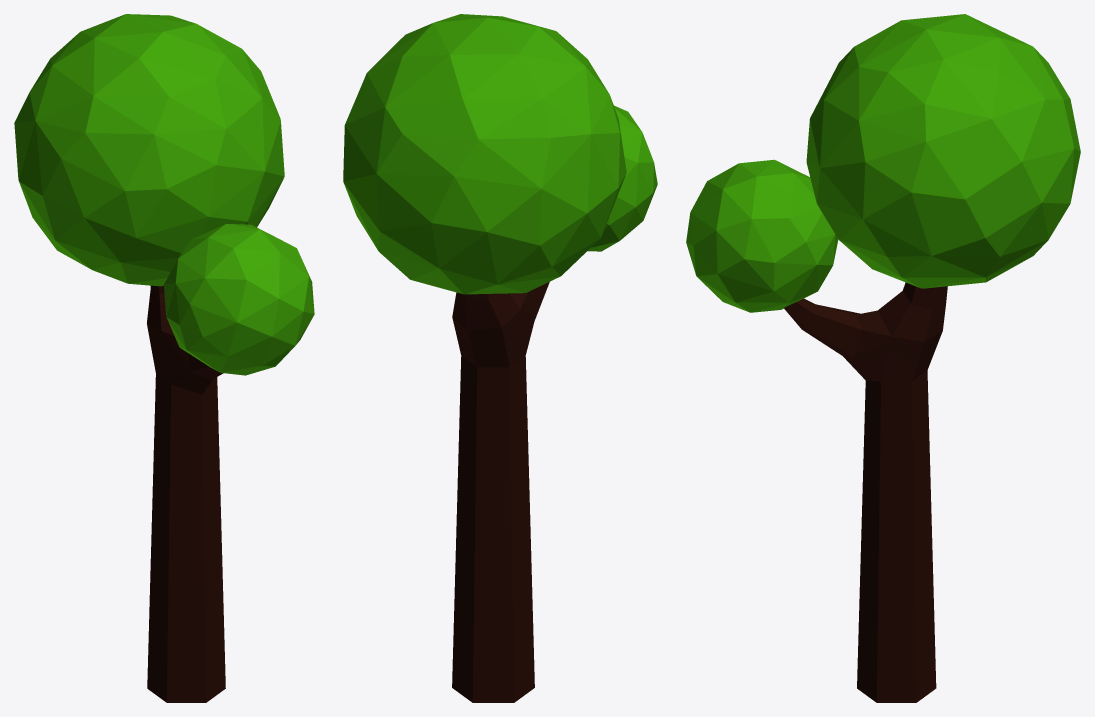
The model's file is plant1.obj.
3 renders of one model, left to right at view 1: azimuth 30°, elevation 25°; view 2: azimuth 150°, elevation 25°; view 3: azimuth 270°, elevation 25°, orthographic. The views are drawn at different scales.
Parts seen in each view (by area): view 1: Icosphere_Icosphere.002, Cylinder.014, Icosphere.001_Icosphere.003; view 2: Icosphere_Icosphere.002, Cylinder.014, Icosphere.001_Icosphere.003; view 3: Icosphere_Icosphere.002, Cylinder.014, Icosphere.001_Icosphere.003.
Boxes of the visible parts, x1,y1,x2,y2 form: Icosphere_Icosphere.002: (14,14,284,286); Cylinder.014: (147,285,225,702); Icosphere.001_Icosphere.003: (164,223,314,375); Icosphere_Icosphere.002: (343,14,626,294); Cylinder.014: (452,281,549,702); Icosphere.001_Icosphere.003: (587,105,657,251); Icosphere_Icosphere.002: (806,14,1080,288); Cylinder.014: (784,282,947,702); Icosphere.001_Icosphere.003: (686,159,838,312).
Bounding box in the file's own units: 1.82 × 4.79 × 2.62.
